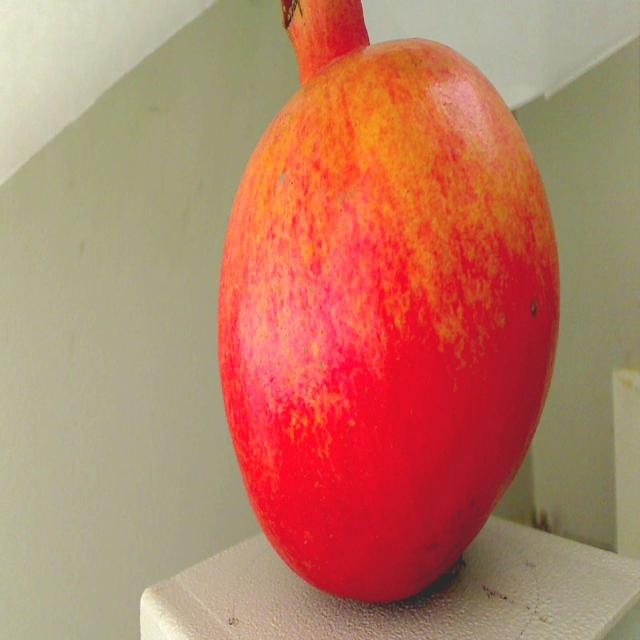pomegranate: (203, 0, 574, 617)
